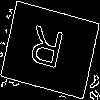R: (25, 24, 66, 78)
